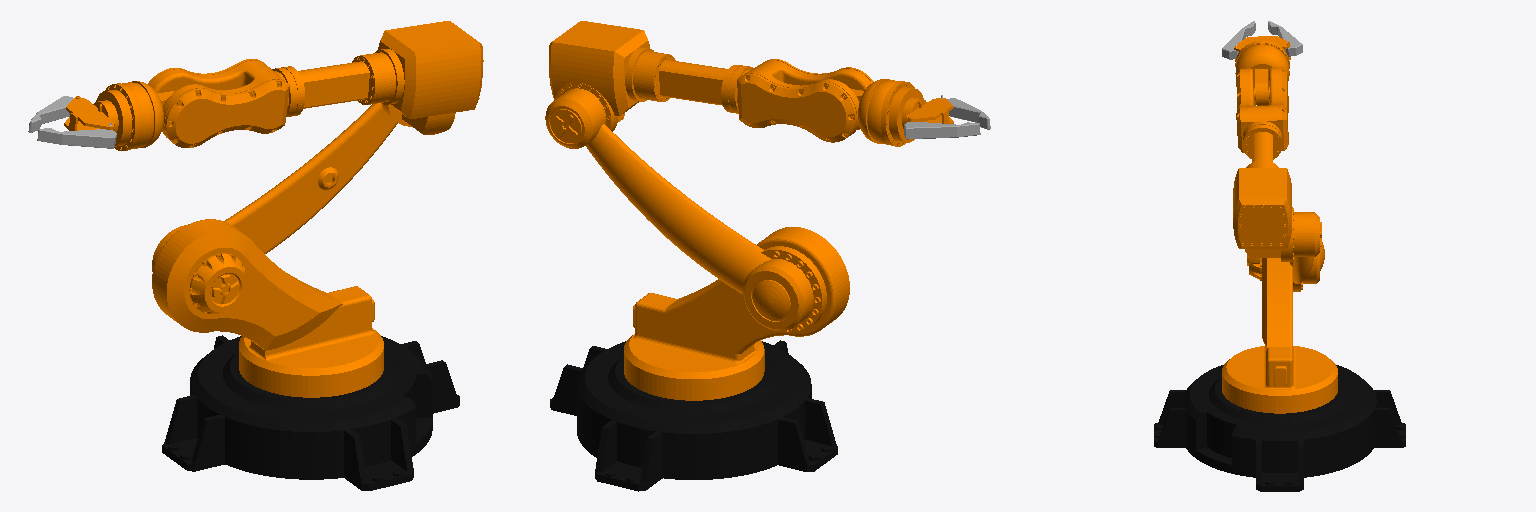
URDF robot description (Robotic):
<?xml version="1.0" ?>
<!-- =================================================================================== -->
<!-- |    This document was autogenerated by xacro from Robotic.urdf.xacro             | -->
<!-- |    EDITING THIS FILE BY HAND IS NOT RECOMMENDED                                 | -->
<!-- =================================================================================== -->
<robot name="Robotic">
  <material name="silver">
    <color rgba="0.700 0.700 0.700 1.000"/>
  </material>
  <material name="black">
    <color rgba="0.1 0.1 0.1 1.0"/>
  </material>
  <material name="orange">
    <color rgba="1.0 0.55 0.0 1.0"/>
  </material>
  <transmission name="revolute_1_tran">
    <type>transmission_interface/SimpleTransmission</type>
    <joint name="revolute_1">
      <hardwareInterface>hardware_interface/PositionJointInterface</hardwareInterface>
    </joint>
    <actuator name="revolute_1_actr">
      <hardwareInterface>hardware_interface/PositionJointInterface</hardwareInterface>
      <mechanicalReduction>1</mechanicalReduction>
    </actuator>
  </transmission>
  <transmission name="revolute_2_tran">
    <type>transmission_interface/SimpleTransmission</type>
    <joint name="revolute_2">
      <hardwareInterface>hardware_interface/PositionJointInterface</hardwareInterface>
    </joint>
    <actuator name="revolute_2_actr">
      <hardwareInterface>hardware_interface/PositionJointInterface</hardwareInterface>
      <mechanicalReduction>1</mechanicalReduction>
    </actuator>
  </transmission>
  <transmission name="revolute_3_tran">
    <type>transmission_interface/SimpleTransmission</type>
    <joint name="revolute_3">
      <hardwareInterface>hardware_interface/PositionJointInterface</hardwareInterface>
    </joint>
    <actuator name="revolute_3_actr">
      <hardwareInterface>hardware_interface/PositionJointInterface</hardwareInterface>
      <mechanicalReduction>1</mechanicalReduction>
    </actuator>
  </transmission>
  <transmission name="revolute_4_tran">
    <type>transmission_interface/SimpleTransmission</type>
    <joint name="revolute_4">
      <hardwareInterface>hardware_interface/PositionJointInterface</hardwareInterface>
    </joint>
    <actuator name="revolute_4_actr">
      <hardwareInterface>hardware_interface/PositionJointInterface</hardwareInterface>
      <mechanicalReduction>1</mechanicalReduction>
    </actuator>
  </transmission>
  <transmission name="revolute_5_tran">
    <type>transmission_interface/SimpleTransmission</type>
    <joint name="revolute_5">
      <hardwareInterface>hardware_interface/PositionJointInterface</hardwareInterface>
    </joint>
    <actuator name="revolute_5_actr">
      <hardwareInterface>hardware_interface/PositionJointInterface</hardwareInterface>
      <mechanicalReduction>1</mechanicalReduction>
    </actuator>
  </transmission>
  <transmission name="revolute_6_tran">
    <type>transmission_interface/SimpleTransmission</type>
    <joint name="revolute_6">
      <hardwareInterface>hardware_interface/PositionJointInterface</hardwareInterface>
    </joint>
    <actuator name="revolute_6_actr">
      <hardwareInterface>hardware_interface/PositionJointInterface</hardwareInterface>
      <mechanicalReduction>1</mechanicalReduction>
    </actuator>
  </transmission>
  <transmission name="revolute_7_tran">
    <type>transmission_interface/SimpleTransmission</type>
    <joint name="revolute_7">
      <hardwareInterface>hardware_interface/PositionJointInterface</hardwareInterface>
    </joint>
    <actuator name="revolute_7_actr">
      <hardwareInterface>hardware_interface/PositionJointInterface</hardwareInterface>
      <mechanicalReduction>1</mechanicalReduction>
    </actuator>
  </transmission>
  <transmission name="revolute_8_tran">
    <type>transmission_interface/SimpleTransmission</type>
    <joint name="revolute_8">
      <hardwareInterface>hardware_interface/PositionJointInterface</hardwareInterface>
    </joint>
    <actuator name="revolute_8_actr">
      <hardwareInterface>hardware_interface/PositionJointInterface</hardwareInterface>
      <mechanicalReduction>1</mechanicalReduction>
    </actuator>
  </transmission>
  <!-- <gazebo> -->
  <!-- <plugin name="control" filename="libgazebo_ros2_control.so"/> -->
  <!--parameter_file>$(find industrial_robot_arm_moveit)/share/industrial_robot_arm_moveit/config/ros2_controllers.yaml</parameter_file-->
  <!-- </gazebo> -->
  <gazebo reference="base_link">
    <material>Gazebo/Silver</material>
    <mu1>0.2</mu1>
    <mu2>0.2</mu2>
    <selfCollide>true</selfCollide>
    <gravity>true</gravity>
  </gazebo>
  <gazebo reference="Component2_1">
    <material>Gazebo/Silver</material>
    <mu1>0.2</mu1>
    <mu2>0.2</mu2>
    <selfCollide>true</selfCollide>
  </gazebo>
  <gazebo reference="Component3_1">
    <material>Gazebo/Silver</material>
    <mu1>0.2</mu1>
    <mu2>0.2</mu2>
    <selfCollide>true</selfCollide>
  </gazebo>
  <gazebo reference="Component4_1">
    <material>Gazebo/Silver</material>
    <mu1>0.2</mu1>
    <mu2>0.2</mu2>
    <selfCollide>true</selfCollide>
  </gazebo>
  <gazebo reference="Component5_1">
    <material>Gazebo/Silver</material>
    <mu1>0.2</mu1>
    <mu2>0.2</mu2>
    <selfCollide>true</selfCollide>
  </gazebo>
  <gazebo reference="Component6_1">
    <material>Gazebo/Silver</material>
    <mu1>0.2</mu1>
    <mu2>0.2</mu2>
    <selfCollide>true</selfCollide>
  </gazebo>
  <gazebo reference="Component7_1">
    <material>Gazebo/Silver</material>
    <mu1>0.2</mu1>
    <mu2>0.2</mu2>
    <selfCollide>true</selfCollide>
  </gazebo>
  <gazebo reference="Component8_1">
    <material>Gazebo/Silver</material>
    <mu1>0.2</mu1>
    <mu2>0.2</mu2>
    <selfCollide>true</selfCollide>
  </gazebo>
  <gazebo reference="Component8_Mirror__1">
    <material>Gazebo/Silver</material>
    <mu1>0.2</mu1>
    <mu2>0.2</mu2>
    <selfCollide>true</selfCollide>
  </gazebo>
  <link name="base_link">
    <inertial>
      <origin rpy="0 0 0" xyz="0.0007806396519895975 -0.0007806396451176688 0.048593515527982106"/>
      <mass value="12.473677758806172"/>
      <inertia ixx="0.118752" ixy="0.000272" ixz="0.000713" iyy="0.118752" iyz="-0.000713" izz="0.218412"/>
    </inertial>
    <visual>
      <origin rpy="0 0 0" xyz="0 0 0"/>
      <geometry>
        <mesh filename="package://industrial_robot_arm/meshes/base_link.stl" scale="0.001 0.001 0.001"/>
      </geometry>
      <material name="black"/>
    </visual>
    <collision>
      <origin rpy="0 0 0" xyz="0 0 0"/>
      <geometry>
        <mesh filename="package://industrial_robot_arm/meshes/base_link.stl" scale="0.001 0.001 0.001"/>
      </geometry>
    </collision>
  </link>
  <link name="link_1_1">
    <inertial>
      <origin rpy="0 0 0" xyz="-0.05686158608037086 -0.002799253146421306 0.06290227912529588"/>
      <mass value="18.098361474018464"/>
      <inertia ixx="0.09336" ixy="-0.003762" ixz="0.071121" iyy="0.186513" iyz="0.003286" izz="0.127406"/>
    </inertial>
    <visual>
      <origin rpy="0 0 0" xyz="-0.0 -0.0 -0.104"/>
      <geometry>
        <mesh filename="package://industrial_robot_arm/meshes/link_1_1.stl" scale="0.001 0.001 0.001"/>
      </geometry>
      <material name="orange"/>
    </visual>
    <collision>
      <origin rpy="0 0 0" xyz="-0.0 -0.0 -0.104"/>
      <geometry>
        <mesh filename="package://industrial_robot_arm/meshes/link_1_1.stl" scale="0.001 0.001 0.001"/>
      </geometry>
    </collision>
  </link>
  <link name="link_2_1">
    <inertial>
      <origin rpy="0 0 0" xyz="0.12229160527590884 0.03527212181755472 0.06142410226405509"/>
      <mass value="6.899829498653837"/>
      <inertia ixx="0.035048" ixy="0.000808" ixz="-0.054425" iyy="0.134098" iyz="0.000236" izz="0.101041"/>
    </inertial>
    <visual>
      <origin rpy="0 0 0" xyz="0.15 -0.0 -0.244"/>
      <geometry>
        <mesh filename="package://industrial_robot_arm/meshes/link_2_1.stl" scale="0.001 0.001 0.001"/>
      </geometry>
      <material name="orange"/>
    </visual>
    <collision>
      <origin rpy="0 0 0" xyz="0.15 -0.0 -0.244"/>
      <geometry>
        <mesh filename="package://industrial_robot_arm/meshes/link_2_1.stl" scale="0.001 0.001 0.001"/>
      </geometry>
    </collision>
  </link>
  <link name="link_3_1">
    <inertial>
      <origin rpy="0 0 0" xyz="-0.03191808932938957 -0.02504426785289398 0.04186817725206715"/>
      <mass value="9.99270875492589"/>
      <inertia ixx="0.01399" ixy="-0.000586" ixz="0.005161" iyy="0.051348" iyz="0.00092" izz="0.047743"/>
    </inertial>
    <visual>
      <origin rpy="0 0 0" xyz="-0.153109 -0.0 -0.419"/>
      <geometry>
        <mesh filename="package://industrial_robot_arm/meshes/link_3_1.stl" scale="0.001 0.001 0.001"/>
      </geometry>
      <material name="orange"/>
    </visual>
    <collision>
      <origin rpy="0 0 0" xyz="-0.153109 -0.0 -0.419"/>
      <geometry>
        <mesh filename="package://industrial_robot_arm/meshes/link_3_1.stl" scale="0.001 0.001 0.001"/>
      </geometry>
    </collision>
  </link>
  <link name="link_4_1">
    <inertial>
      <origin rpy="0 0 0" xyz="-0.09945544404066245 1.0741896244378935e-07 0.008701266078208925"/>
      <mass value="4.896548707938916"/>
      <inertia ixx="0.004672" ixy="-7e-06" ixz="0.00107" iyy="0.015604" iyz="-7.7e-05" izz="0.016812"/>
    </inertial>
    <visual>
      <origin rpy="0 0 0" xyz="0.043204 0.026956 -0.481347"/>
      <geometry>
        <mesh filename="package://industrial_robot_arm/meshes/link_4_1.stl" scale="0.001 0.001 0.001"/>
      </geometry>
      <material name="orange"/>
    </visual>
    <collision>
      <origin rpy="0 0 0" xyz="0.043204 0.026956 -0.481347"/>
      <geometry>
        <mesh filename="package://industrial_robot_arm/meshes/link_4_1.stl" scale="0.001 0.001 0.001"/>
      </geometry>
    </collision>
  </link>
  <link name="link_5_1">
    <inertial>
      <origin rpy="0 0 0" xyz="-0.0595097850745733 -0.012477892757639037 0.004462237715588346"/>
      <mass value="2.4502212088594084"/>
      <inertia ixx="0.001692" ixy="0.0" ixz="7.3e-05" iyy="0.00255" iyz="1e-06" izz="0.002521"/>
    </inertial>
    <visual>
      <origin rpy="0 0 0" xyz="0.201016 0.014478 -0.495898"/>
      <geometry>
        <mesh filename="package://industrial_robot_arm/meshes/link_5_1.stl" scale="0.001 0.001 0.001"/>
      </geometry>
      <material name="orange"/>
    </visual>
    <collision>
      <origin rpy="0 0 0" xyz="0.201016 0.014478 -0.495898"/>
      <geometry>
        <mesh filename="package://industrial_robot_arm/meshes/link_5_1.stl" scale="0.001 0.001 0.001"/>
      </geometry>
    </collision>
  </link>
  <link name="link_6_1">
    <inertial>
      <origin rpy="0 0 0" xyz="-0.008159984839289869 1.4601279601074435e-05 0.0007194640373505701"/>
      <mass value="0.6303591845639697"/>
      <inertia ixx="0.000332" ixy="-0.0" ixz="2e-06" iyy="0.000301" iyz="-3e-06" izz="0.000357"/>
    </inertial>
    <visual>
      <origin rpy="0 0 0" xyz="0.304684 0.026956 -0.504224"/>
      <geometry>
        <mesh filename="package://industrial_robot_arm/meshes/link_6_1.stl" scale="0.001 0.001 0.001"/>
      </geometry>
      <material name="orange"/>
    </visual>
    <collision>
      <origin rpy="0 0 0" xyz="0.304684 0.026956 -0.504224"/>
      <geometry>
        <mesh filename="package://industrial_robot_arm/meshes/link_6_1.stl" scale="0.001 0.001 0.001"/>
      </geometry>
    </collision>
  </link>
  <link name="gripper_left_1">
    <inertial>
      <origin rpy="0 0 0" xyz="-0.030716855158846146 0.0011153711346979928 0.011819301380110614"/>
      <mass value="0.17294239070216955"/>
      <inertia ixx="2.6e-05" ixy="3.8e-05" ixz="1e-05" iyy="0.000103" iyz="-4e-06" izz="0.000119"/>
    </inertial>
    <visual>
      <origin rpy="0 0 0" xyz="0.328483 0.06716 -0.494859"/>
      <geometry>
        <mesh filename="package://industrial_robot_arm/meshes/gripper_left_1.stl" scale="0.001 0.001 0.001"/>
      </geometry>
      <material name="silver"/>
    </visual>
    <collision>
      <origin rpy="0 0 0" xyz="0.328483 0.06716 -0.494859"/>
      <geometry>
        <mesh filename="package://industrial_robot_arm/meshes/gripper_left_1.stl" scale="0.001 0.001 0.001"/>
      </geometry>
    </collision>
  </link>
  <link name="gripper_right_1">
    <inertial>
      <origin rpy="0 0 0" xyz="-0.03070809444653194 -0.0032218850816975956 0.011541454151286601"/>
      <mass value="0.1727285383045678"/>
      <inertia ixx="2.8e-05" ixy="-4.1e-05" ixz="6e-06" iyy="0.0001" iyz="2e-06" izz="0.00012"/>
    </inertial>
    <visual>
      <origin rpy="0 0 0" xyz="0.328062 -0.014315 -0.499679"/>
      <geometry>
        <mesh filename="package://industrial_robot_arm/meshes/gripper_right_1.stl" scale="0.001 0.001 0.001"/>
      </geometry>
      <material name="silver"/>
    </visual>
    <collision>
      <origin rpy="0 0 0" xyz="0.328062 -0.014315 -0.499679"/>
      <geometry>
        <mesh filename="package://industrial_robot_arm/meshes/gripper_right_1.stl" scale="0.001 0.001 0.001"/>
      </geometry>
    </collision>
  </link>
  <joint name="revolute_1" type="continuous">
    <origin rpy="0 0 0" xyz="0.0 0.0 0.104"/>
    <parent link="base_link"/>
    <child link="link_1_1"/>
    <axis xyz="0.0 0.0 1.0"/>
  </joint>
  <joint name="revolute_2" type="revolute">
    <origin rpy="0 0 0" xyz="-0.15 0.0 0.14"/>
    <parent link="link_1_1"/>
    <child link="link_2_1"/>
    <axis xyz="0.0 1.0 0.0"/>
    <limit effort="100" lower="-3.141593" upper="0.698132" velocity="100"/>
  </joint>
  <joint name="revolute_3" type="revolute">
    <origin rpy="0 0 0" xyz="0.303109 0.0 0.175"/>
    <parent link="link_2_1"/>
    <child link="link_3_1"/>
    <axis xyz="0.0 -1.0 -0.0"/>
    <limit effort="100" lower="-2.443461" upper="0.349066" velocity="100"/>
  </joint>
  <joint name="revolute_4" type="continuous">
    <origin rpy="0 0 0" xyz="-0.196313 -0.026956 0.062347"/>
    <parent link="link_3_1"/>
    <child link="link_4_1"/>
    <axis xyz="-0.996195 0.0 0.087156"/>
  </joint>
  <joint name="revolute_5" type="revolute">
    <origin rpy="0 0 0" xyz="-0.157812 0.012478 0.014551"/>
    <parent link="link_4_1"/>
    <child link="link_5_1"/>
    <axis xyz="-0.005166 -0.998242 -0.059048"/>
    <limit effort="100" lower="-1.9" upper="1.9" velocity="100"/>
  </joint>
  <joint name="revolute_6" type="continuous">
    <origin rpy="0 0 0" xyz="-0.103668 -0.012478 0.008326"/>
    <parent link="link_5_1"/>
    <child link="link_6_1"/>
    <axis xyz="-0.996195 -0.0 0.087156"/>
  </joint>
  <joint name="revolute_7" type="revolute">
    <origin rpy="0 0 0" xyz="-0.023799 -0.040204 -0.009365"/>
    <parent link="link_6_1"/>
    <child link="gripper_left_1"/>
    <axis xyz="-0.087003 0.059274 -0.994443"/>
    <limit effort="100" lower="-0.872665" upper="0" velocity="100"/>
  </joint>
  <joint name="revolute_8" type="revolute">
    <origin rpy="0 0 0" xyz="-0.023378 0.041271 -0.004545"/>
    <parent link="link_6_1"/>
    <child link="gripper_right_1"/>
    <axis xyz="-0.087003 0.059274 -0.994443"/>
    <limit effort="100" lower="0.0" upper="0.872665" velocity="100"/>
    <mimic joint="revolute_7" multiplier="-1" offset="0"/>
  </joint>
  <ros2_control name="FakeSystem" type="system">
    <hardware>
      <!-- <gazebo> -->
      <!-- <plugin name="control" filename="libgazebo_ros2_control.so"/> -->
      <plugin>gazebo_ros2_control/GazeboSystem</plugin>
      <!-- </gazebo> -->
      <!-- By default, set up controllers for simulation. This won't work on real hardware -->
      <!-- <plugin>mock_components/GenericSystem</plugin> -->
      <!--plugin>gazebo_ros2_control/GazeboSystem</plugin-->
    </hardware>
    <!--parameter_file>$(find industrial_robot_arm_moveit)/share/industrial_robot_arm_moveit/config/ros2_controllers.yaml</parameter_file-->
    <joint name="revolute_7">
      <command_interface name="position"/>
      <state_interface name="position">
        <param name="initial_value">0</param>
      </state_interface>
      <state_interface name="velocity"/>
    </joint>
    <joint name="revolute_8">
      <command_interface name="position"/>
      <state_interface name="position">
        <param name="initial_value">0</param>
      </state_interface>
      <state_interface name="velocity"/>
    </joint>
    <joint name="revolute_1">
      <command_interface name="position"/>
      <state_interface name="position">
        <param name="initial_value">0</param>
      </state_interface>
      <state_interface name="velocity"/>
    </joint>
    <joint name="revolute_2">
      <command_interface name="position"/>
      <state_interface name="position">
        <param name="initial_value">0</param>
      </state_interface>
      <state_interface name="velocity"/>
    </joint>
    <joint name="revolute_3">
      <command_interface name="position"/>
      <state_interface name="position">
        <param name="initial_value">0</param>
      </state_interface>
      <state_interface name="velocity"/>
    </joint>
    <joint name="revolute_4">
      <command_interface name="position"/>
      <state_interface name="position">
        <param name="initial_value">0</param>
      </state_interface>
      <state_interface name="velocity"/>
    </joint>
    <joint name="revolute_5">
      <command_interface name="position"/>
      <state_interface name="position">
        <param name="initial_value">0</param>
      </state_interface>
      <state_interface name="velocity"/>
    </joint>
    <joint name="revolute_6">
      <command_interface name="position"/>
      <state_interface name="position">
        <param name="initial_value">0</param>
      </state_interface>
      <state_interface name="velocity"/>
    </joint>
  </ros2_control>
</robot>

--- Facts derived from the render (not from the file) ---
The picture shows the robot from 3 angles, left to right: view 1: azimuth 30°, elevation 25°; view 2: azimuth 150°, elevation 25°; view 3: azimuth 270°, elevation 25°; orthographic projection.
Robot: Robotic — 9 links, 8 joints (5 revolute, 3 continuous); root link base_link; default pose: every joint at zero.
Visible links, largest first — view 1: base_link, link_1_1, link_3_1, link_4_1, link_2_1, link_5_1, link_6_1, gripper_left_1, gripper_right_1; view 2: base_link, link_2_1, link_1_1, link_3_1, link_4_1, link_5_1, link_6_1, gripper_right_1, gripper_left_1; view 3: base_link, link_1_1, link_3_1, link_4_1, link_2_1, link_5_1.
Boxes of the visible links, x1,y1,x2,y2 form: base_link: (162, 335, 459, 490); link_1_1: (152, 219, 383, 397); link_3_1: (272, 21, 483, 134); link_4_1: (148, 59, 289, 147); link_2_1: (152, 103, 397, 271); link_5_1: (105, 81, 174, 150); link_6_1: (64, 90, 129, 146); gripper_left_1: (37, 123, 116, 148); gripper_right_1: (28, 96, 73, 132); base_link: (550, 340, 837, 491); link_2_1: (545, 88, 826, 332); link_1_1: (624, 227, 849, 400); link_3_1: (549, 21, 753, 131); link_4_1: (737, 59, 873, 142); link_5_1: (851, 79, 914, 146); link_6_1: (891, 87, 953, 142); gripper_right_1: (904, 122, 980, 139); gripper_left_1: (941, 95, 990, 129); base_link: (1154, 365, 1405, 491); link_1_1: (1222, 255, 1337, 413); link_3_1: (1233, 121, 1293, 261); link_4_1: (1236, 67, 1288, 152); link_2_1: (1290, 212, 1324, 291); link_5_1: (1235, 41, 1289, 105).
Bounding box of the posed robot: 0.626 × 0.3905 × 0.5449 m (x, y, z).
9 mesh visuals loaded from 9 distinct referenced files (9 binary STL).
